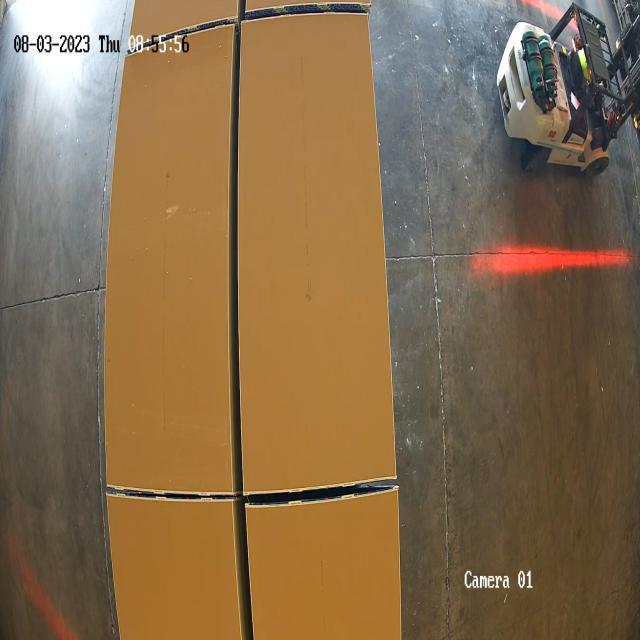forklift: (496, 0, 640, 183)
